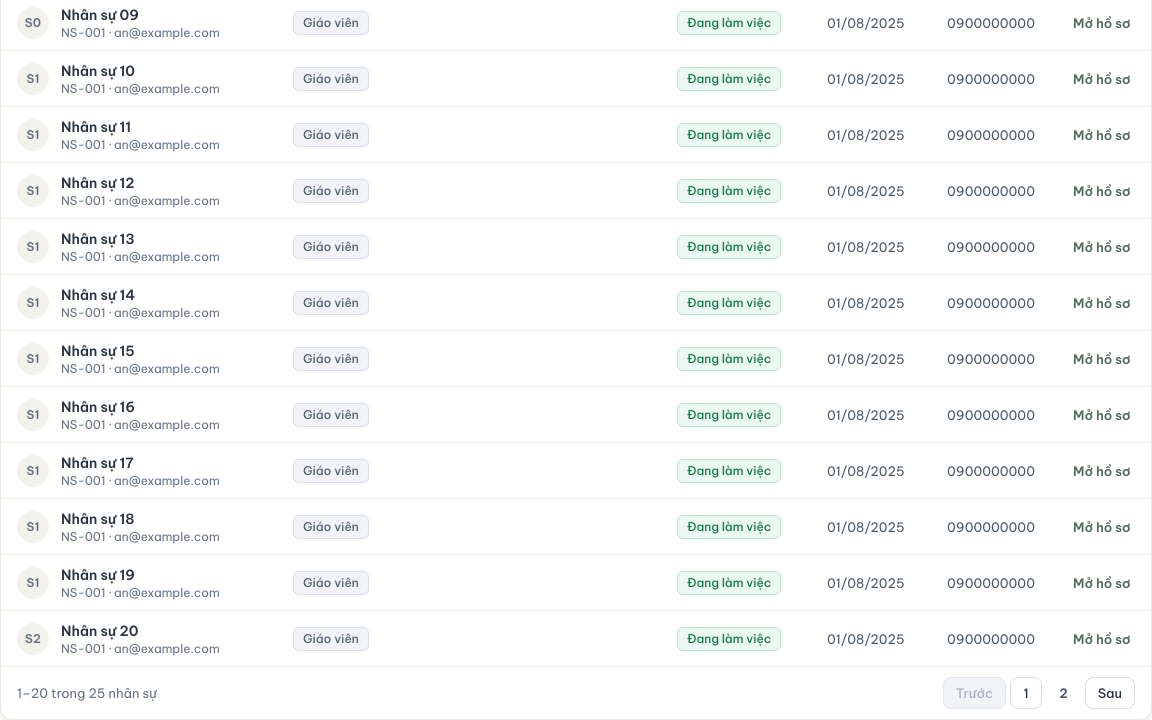
Test: Staff directory list (design 16a) › pages 20 members at a time in both layouts
(page scrolled)
Click the button "Sau". click: (1110, 693)
box: top-left (1085, 677), bottom-right (1135, 709)
(page scrolled)
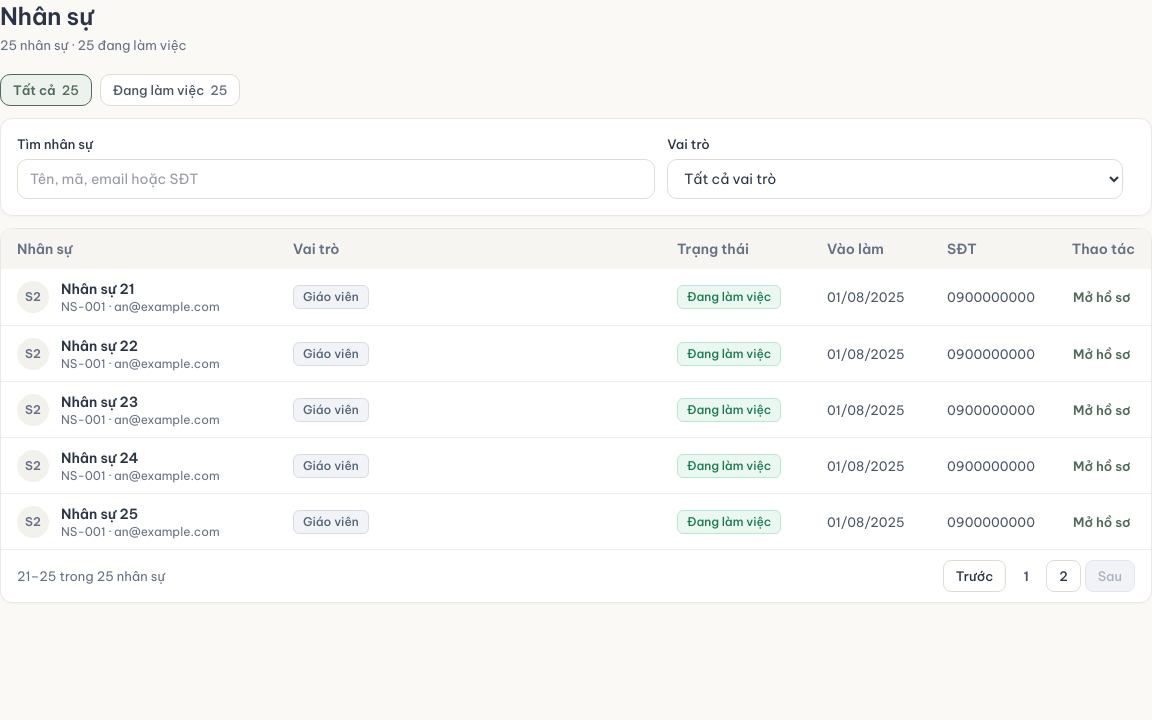
Expected: the number of rows is 6, top-left (1, 229), bottom-right (1151, 269); top-left (1, 269), bottom-right (1151, 325); top-left (1, 325), bottom-right (1151, 381); top-left (1, 381), bottom-right (1151, 437); top-left (1, 437), bottom-right (1151, 493); top-left (1, 493), bottom-right (1151, 549)
Expected: the row that starts with "Nhân sự 21" is shown, top-left (61, 279), bottom-right (220, 299)
